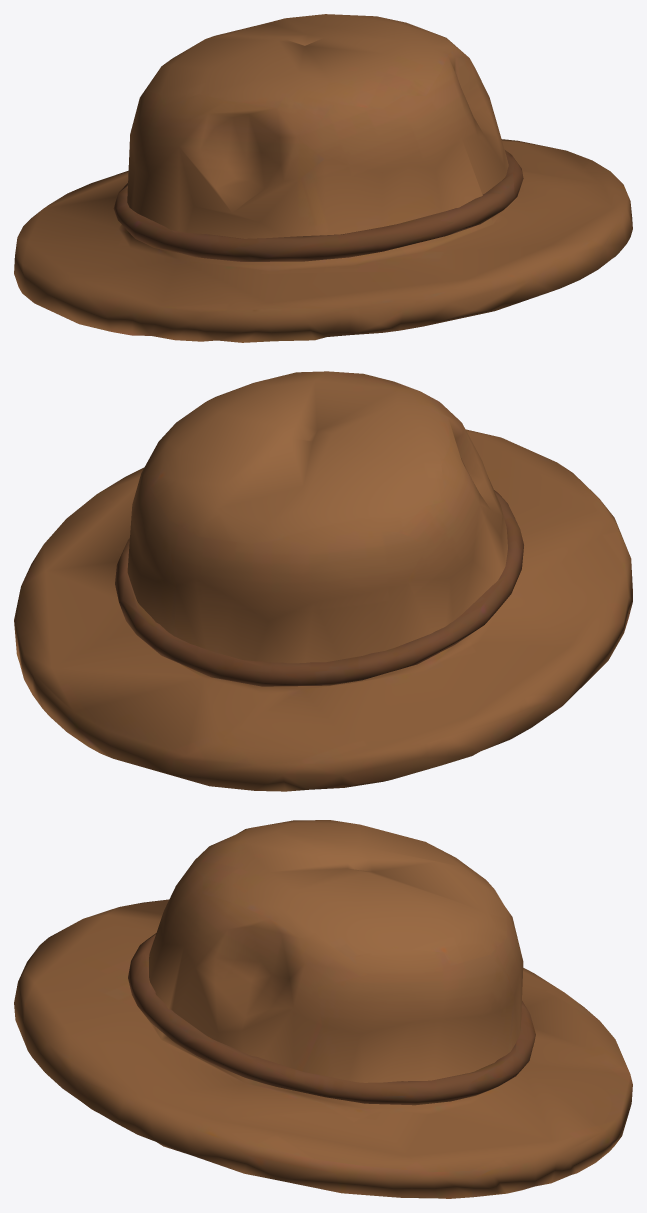
The model's file is treasure-hunter-hat.glb.
3 renders of one model, top to bottom at view 1: azimuth 30°, elevation 25°; view 2: azimuth 150°, elevation 25°; view 3: azimuth 270°, elevation 25°, orthographic.
Parts seen in each view (by area): view 1: hat; view 2: hat; view 3: hat.
Part boxes in pixels (<box>): hat: <box>14,14,632,342</box>; hat: <box>14,371,632,791</box>; hat: <box>14,820,632,1198</box>.
Size of the model in its own units: 0.6113 by 0.2796 by 0.6169.
Materials: 1 (1 with a texture image).
